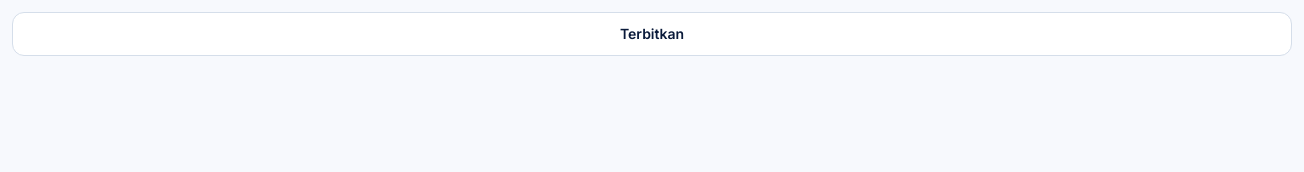
PublishToggle › shows why publishing was refused
Click the button "Terbitkan". click: [652, 34]
box: [12,12,1292,56]
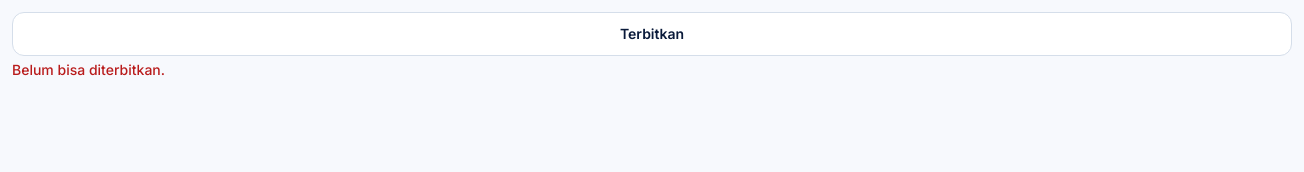
Expected: the message reads "Belum bisa diterbitkan.", [12,61,165,78]
